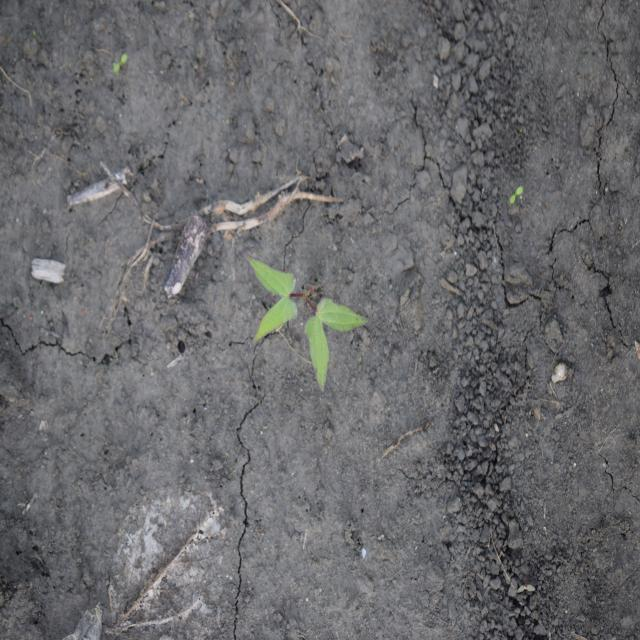MorningGlory: (240, 251, 370, 395)
